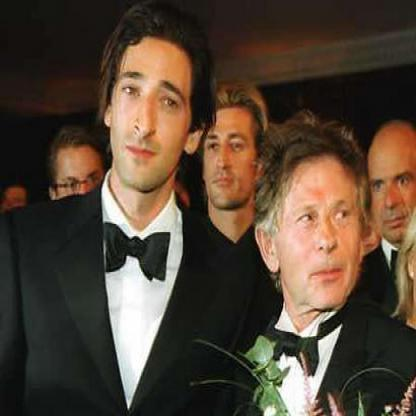face: (271, 131, 367, 315), (113, 9, 196, 197), (200, 91, 261, 212)
